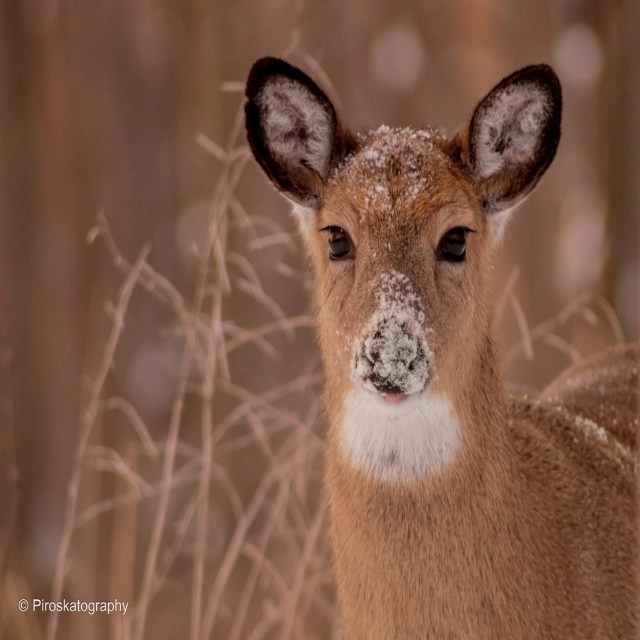Deer: (243, 55, 640, 640)
